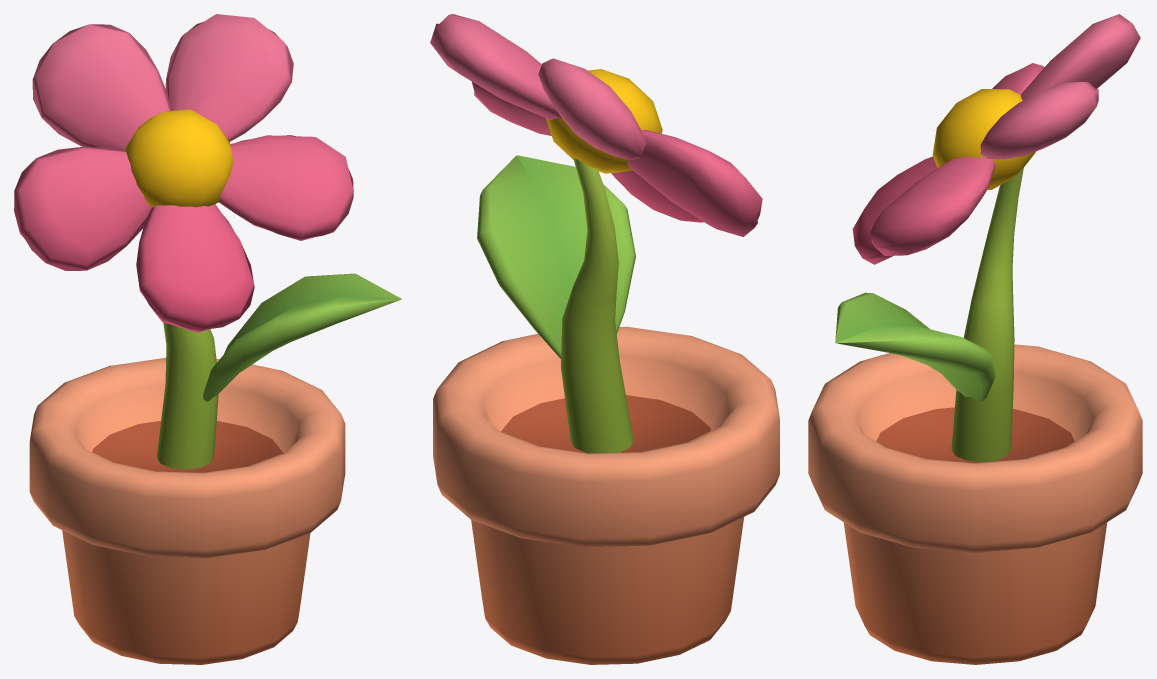
Rendered from Plants_05.fbx.
3 views of the same model, side by side, from view 1: azimuth 30°, elevation 25°; view 2: azimuth 150°, elevation 25°; view 3: azimuth 270°, elevation 25° (orthographic). The views are drawn at different scales.
Parts seen in each view (by area): view 1: Plants_05; view 2: Plants_05; view 3: Plants_05.
Boxes of the visible parts, left/top/right/bottom form: Plants_05: left=14, top=14, right=401, bottom=664; Plants_05: left=430, top=14, right=779, bottom=664; Plants_05: left=808, top=14, right=1142, bottom=664.
Size of the model in its own units: 0.1349 by 0.2403 by 0.124.
